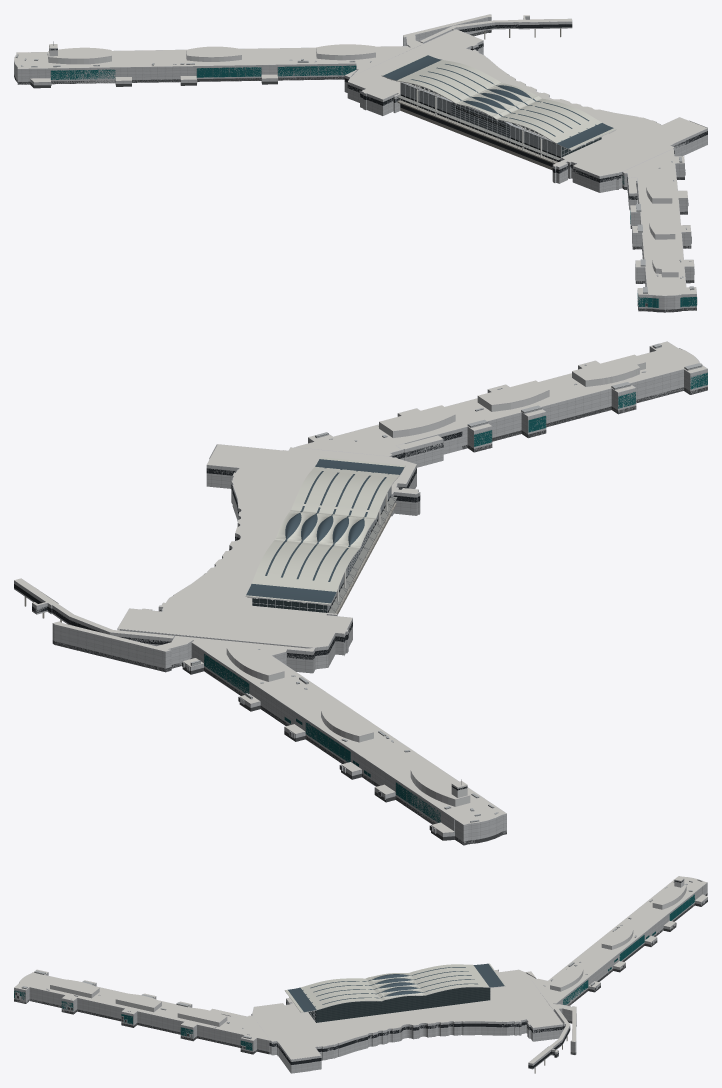
The model's file is itb.glb.
The picture shows the model from 3 angles, top to bottom: view 1: azimuth 30°, elevation 25°; view 2: azimuth 150°, elevation 25°; view 3: azimuth 270°, elevation 25°; orthographic projection. The views are drawn at different scales.
Visible parts, largest first — view 1: L2_itb, L0_ba_g_body, L0_hall_roof, L0_itb_core, L0_hall_west_wall, L0_ba_g_pods, L0_ba_a_body, L0_ba_a_pods, L0_hall_podium, L1_hall_mullions, L0_hall_curb, L0_hall_canopy; view 2: L2_itb, L0_ba_g_body, L0_hall_roof, L0_itb_core, L0_ba_a_body, L0_ba_a_pods, L0_ba_g_pods, L0_ba_roof_units, L0_hall_canopy; view 3: L2_itb, L0_itb_core, L0_hall_roof, L0_ba_a_body, L0_hall_east_clerestory, L0_ba_g_body, L0_ba_a_pods, L0_ba_g_pods, L0_ba_roof_units.
Part boxes in pixels (box(x1,y1,x2,y2)): L2_itb: box(14, 14, 707, 312); L0_ba_g_body: box(14, 14, 491, 88); L0_hall_roof: box(381, 55, 616, 150); L0_itb_core: box(344, 15, 707, 210); L0_hall_west_wall: box(401, 82, 560, 161); L0_ba_g_pods: box(48, 44, 375, 64); L0_ba_a_body: box(622, 149, 696, 312); L0_ba_a_pods: box(646, 174, 678, 277); L0_hall_podium: box(400, 104, 553, 170); L1_hall_mullions: box(400, 82, 598, 160); L0_hall_curb: box(397, 100, 558, 163); L0_hall_canopy: box(397, 95, 560, 160); L2_itb: box(14, 341, 707, 845); L0_ba_g_body: box(52, 621, 506, 845); L0_hall_roof: box(245, 457, 405, 604); L0_itb_core: box(14, 428, 462, 673); L0_ba_a_body: box(296, 341, 707, 456); L0_ba_a_pods: box(379, 354, 645, 437); L0_ba_g_pods: box(226, 643, 470, 806); L0_ba_roof_units: box(190, 343, 702, 822); L0_hall_canopy: box(328, 496, 397, 613); L2_itb: box(14, 876, 707, 1069); L0_itb_core: box(210, 969, 570, 1073); L0_hall_roof: box(284, 963, 505, 1012); L0_ba_a_body: box(14, 972, 269, 1054); L0_hall_east_clerestory: box(316, 987, 490, 1022); L0_ba_g_body: box(528, 876, 707, 1054); L0_ba_a_pods: box(50, 979, 227, 1026); L0_ba_g_pods: box(550, 884, 686, 991); L0_ba_roof_units: box(22, 879, 702, 1039).
Size of the model in its own units: 526 by 40.5 by 818.
Materials: 52 (9 with a texture image).
